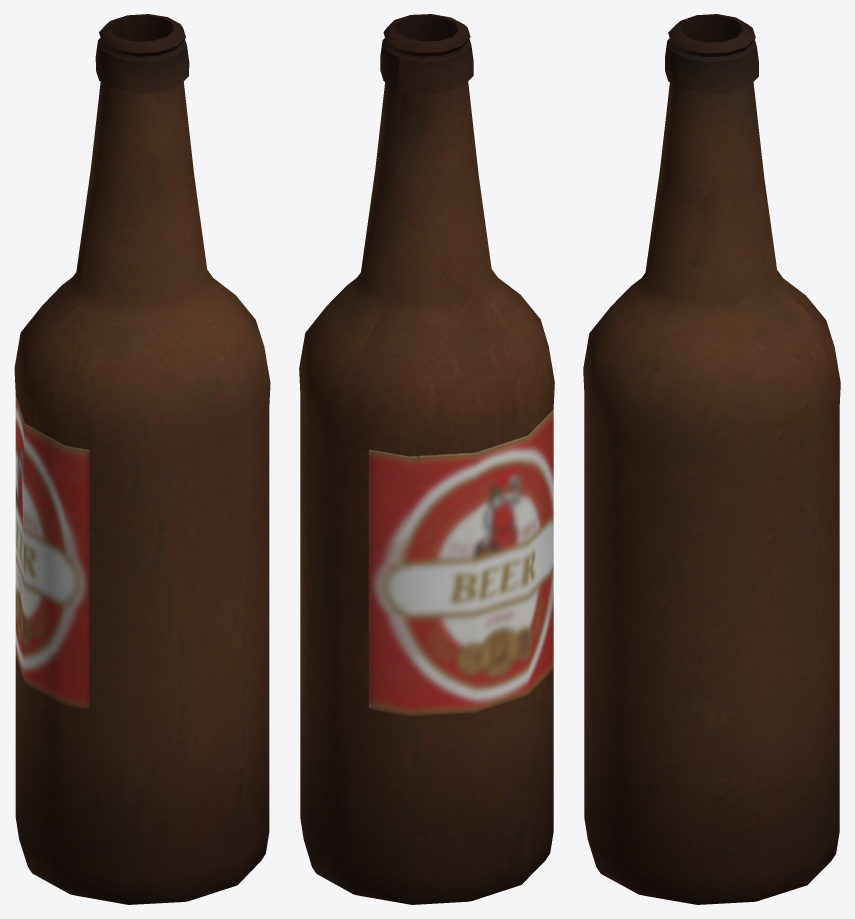
File: Beer.FBX
The picture shows the model from 3 angles, left to right: view 1: azimuth 30°, elevation 25°; view 2: azimuth 150°, elevation 25°; view 3: azimuth 270°, elevation 25°; orthographic projection.
Parts seen in each view (by area): view 1: Beer; view 2: Beer; view 3: Beer.
Boxes of the visible parts, x1,y1,x2,y2 form: Beer: (14, 14, 270, 904); Beer: (299, 14, 554, 904); Beer: (583, 14, 840, 904).
Size of the model in its own units: 150 by 152 by 539.
1 material, 1 textured.
